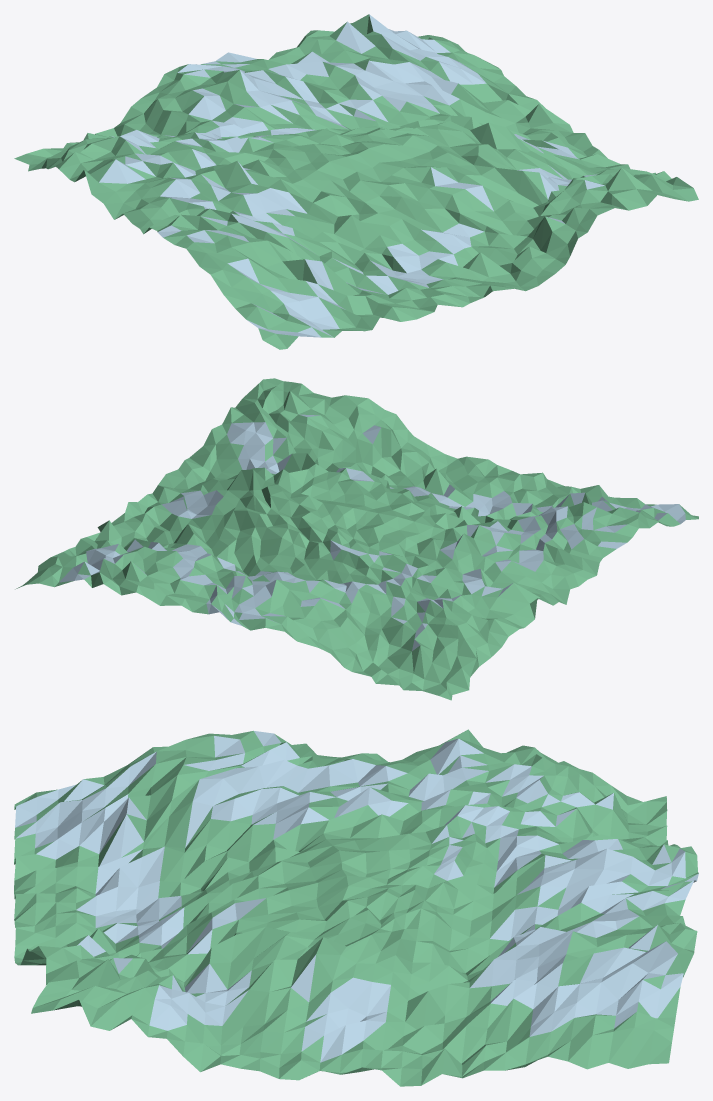
File: mountain.fbx
3 views of the same model, one above another, from view 1: azimuth 30°, elevation 25°; view 2: azimuth 150°, elevation 25°; view 3: azimuth 270°, elevation 25° (orthographic). The views are drawn at different scales.
Visible parts, largest first — view 1: Plane; view 2: Plane; view 3: Plane.
Part boxes in pixels (x1,y1,x2,y2): Plane: (14,14,698,349); Plane: (15,378,698,700); Plane: (14,729,698,1086).
Size of the model in its own units: 2.11 by 0.2902 by 2.1.
